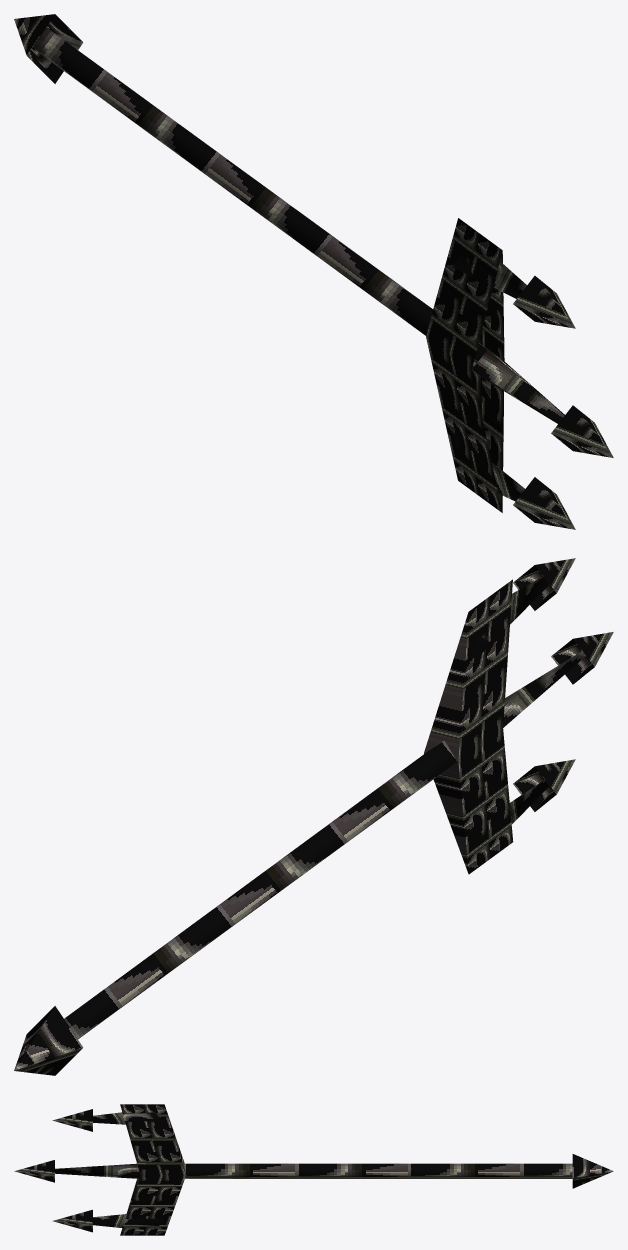
File: 09_00_stick.gltf
The picture shows the model from 3 angles, top to bottom: view 1: azimuth 30°, elevation 25°; view 2: azimuth 150°, elevation 25°; view 3: azimuth 270°, elevation 25°; orthographic projection. The views are drawn at different scales.
Parts seen in each view (by area): view 1: 09_00_stick; view 2: 09_00_stick; view 3: 09_00_stick.
Part boxes in pixels (<box>): 09_00_stick: <box>14,14,613,529</box>; 09_00_stick: <box>14,558,613,1075</box>; 09_00_stick: <box>14,1104,613,1235</box>.
Bounding box in the file's own units: 0.0674 × 0.2983 × 1.23.
1 material, 1 textured.
